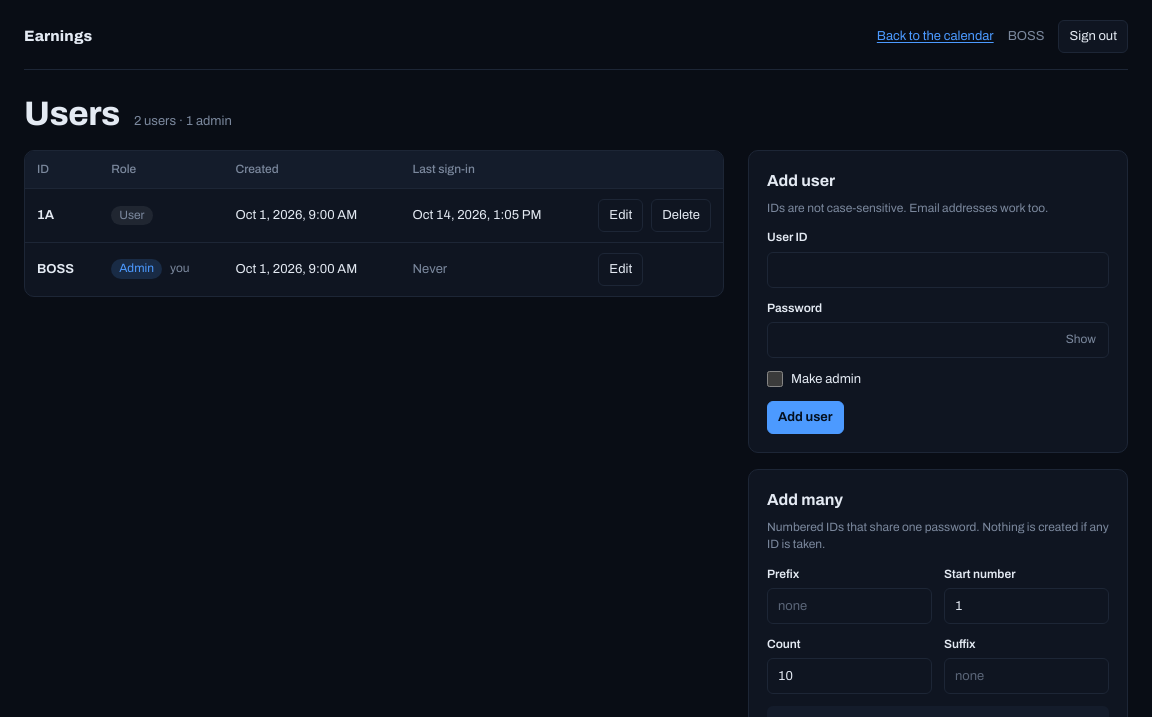
Scenario: admin page › edit: unchanged fields are not sent; nothing changed means no request
The image size is (1152, 717).
What coordinates should you click on to do the following:
click the button "Edit" in the row of "1A"
I would click on:
 (621, 215)
Its box is [598,199,643,232].
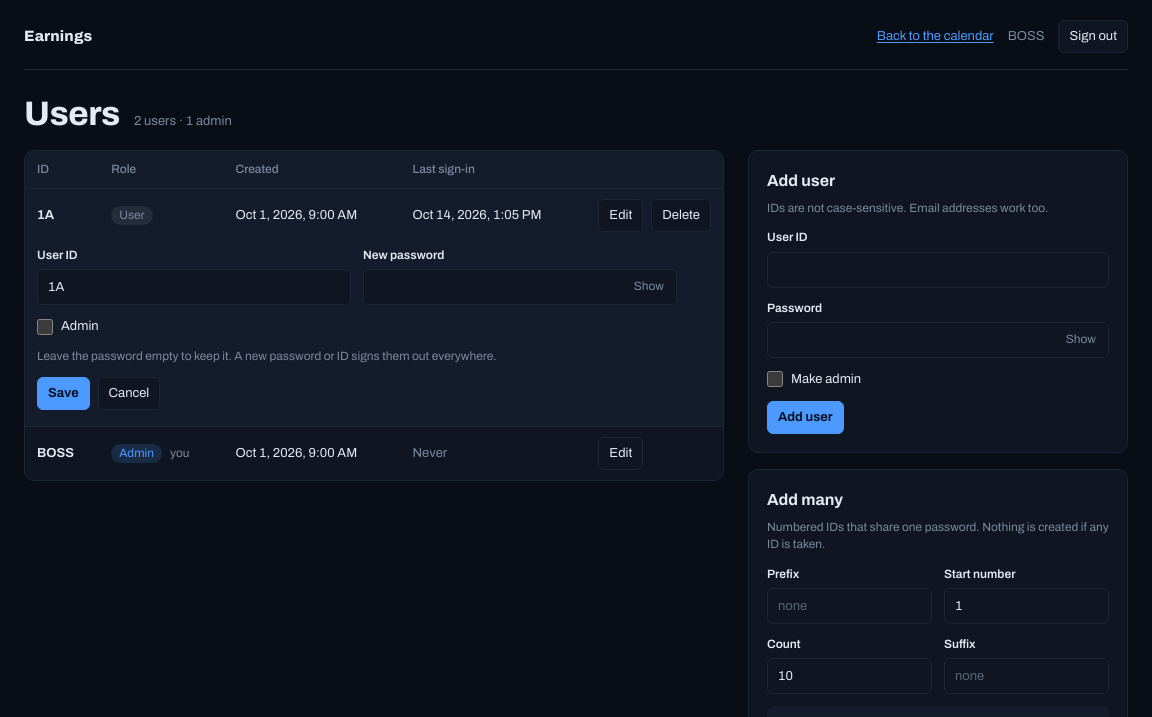
What coordinates should you click on to do the following:
click the button "Save"
I would click on:
 (63, 394)
Its box is [37,377,90,410].
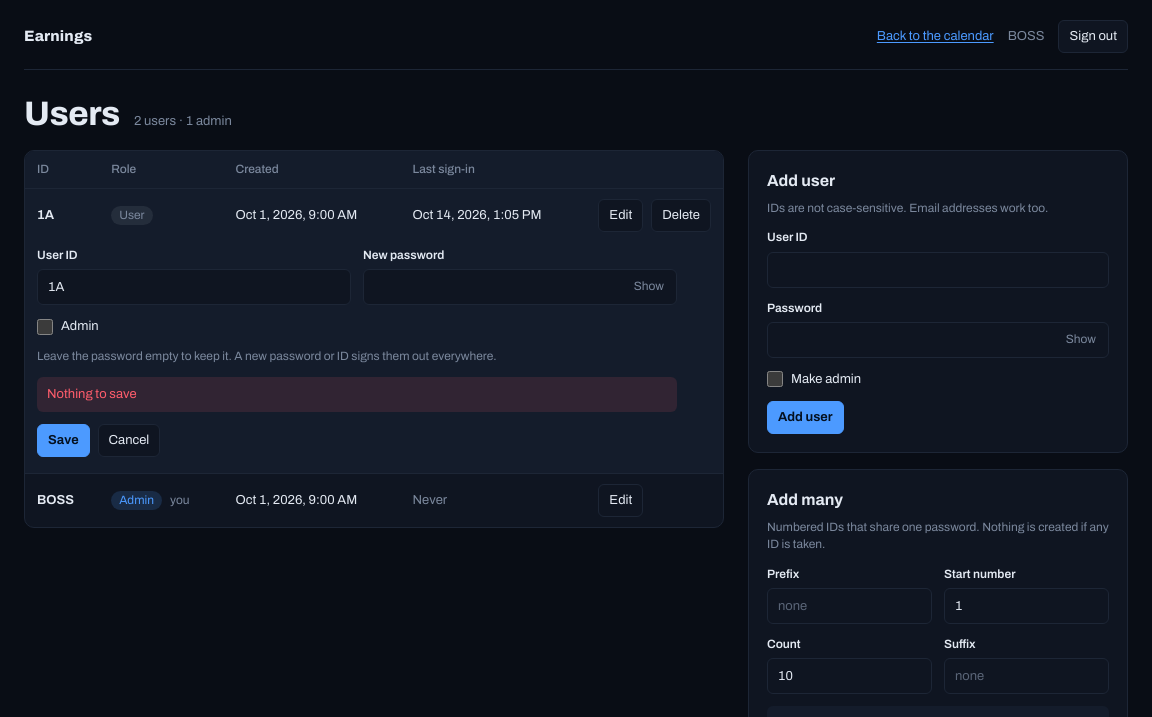
Expected: the message reads "Nothing to save", [47,387,137,401]
What coordinates should you click on to do the following:
click the checkbox labelled "Admin"
I would click on:
 (45, 327)
Its box is [37,319,53,335].
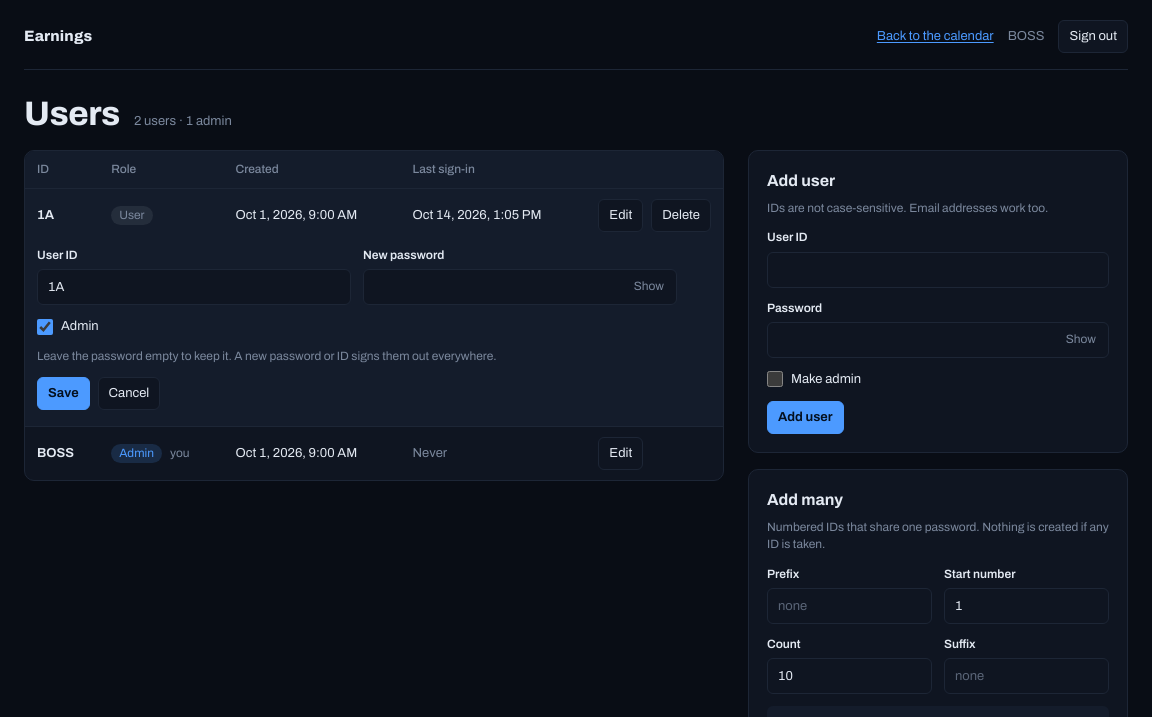
What coordinates should you click on to do the following:
click the button "Save"
I would click on:
 (63, 394)
Its box is [37,377,90,410].
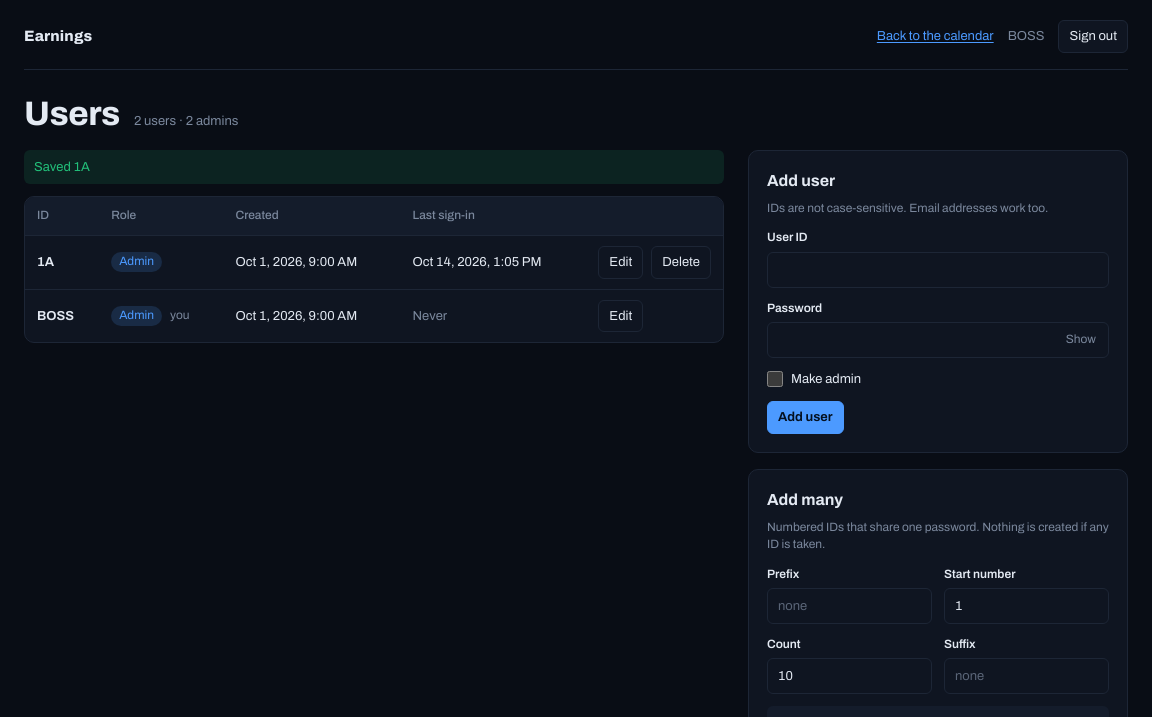
Expected: the text "Saved 1A" is shown, [24,150,724,184]
